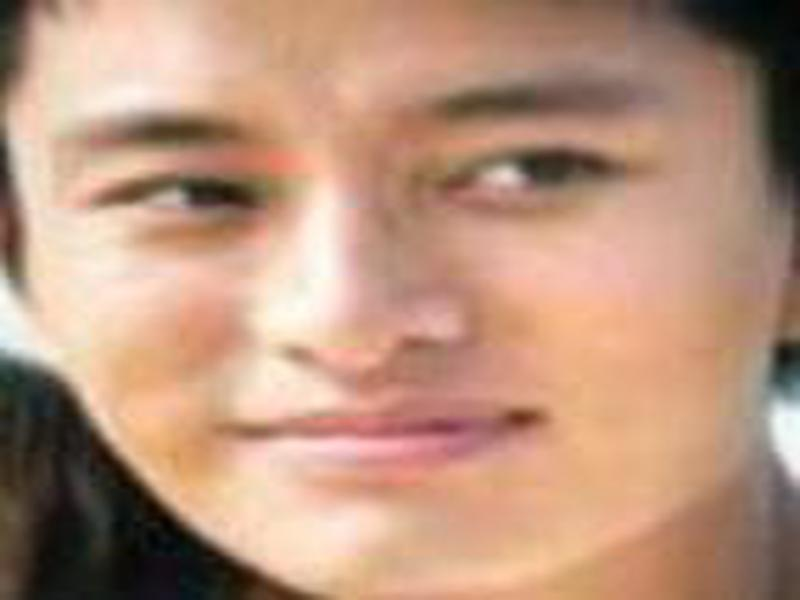without_mask: (12, 8, 776, 600)
